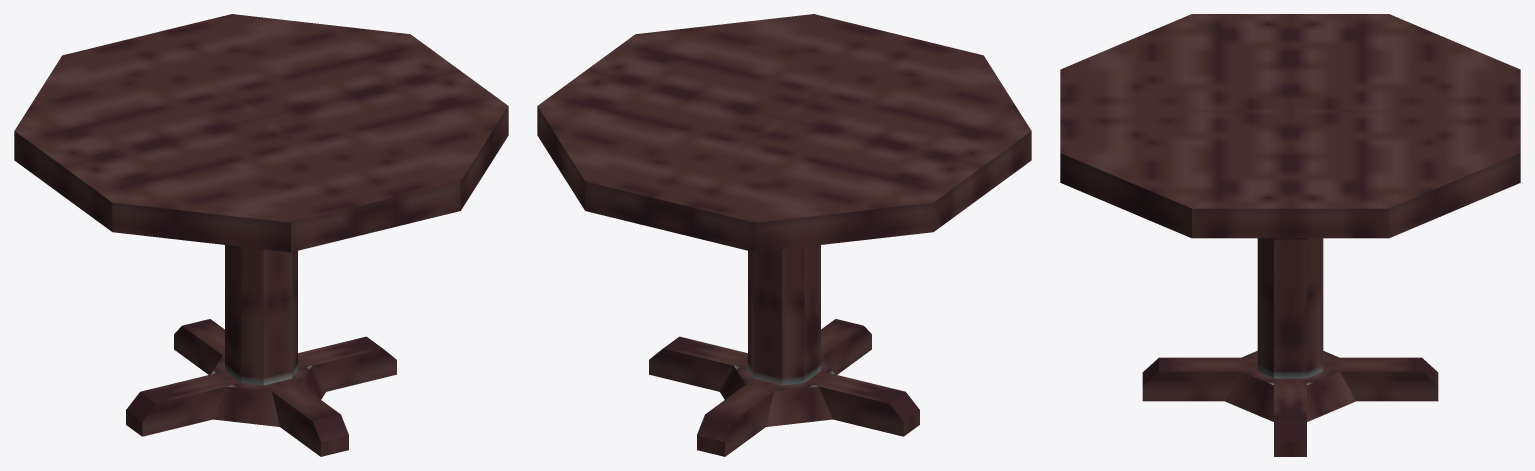
Rendered from RoundTable.fbx.
3 views of the same model, side by side, from view 1: azimuth 30°, elevation 25°; view 2: azimuth 150°, elevation 25°; view 3: azimuth 270°, elevation 25° (orthographic).
Visible parts, largest first — view 1: Cube.003; view 2: Cube.003; view 3: Cube.003.
Boxes of the visible parts, x1,y1,x2,y2 form: Cube.003: (14, 14, 508, 456); Cube.003: (537, 14, 1031, 456); Cube.003: (1060, 14, 1520, 456).
Size of the model in its own units: 1.75 by 1.75 by 1.19.
